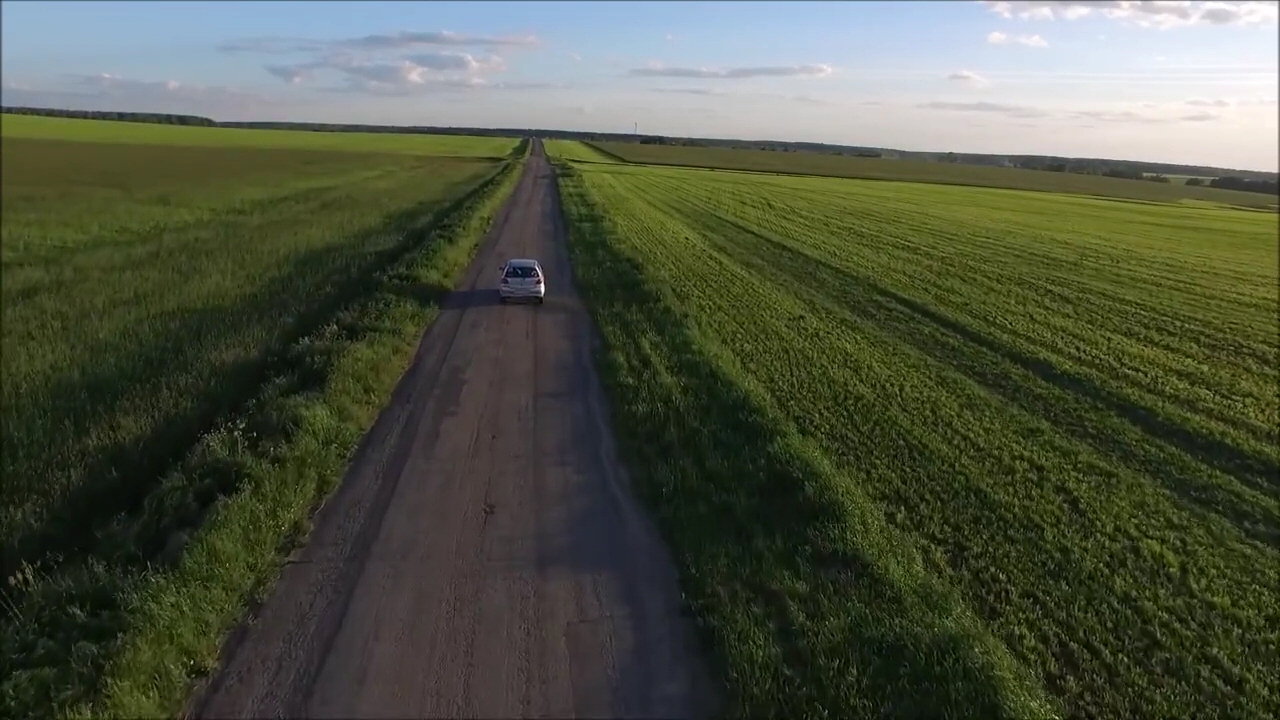araba: (498, 256, 547, 301)
